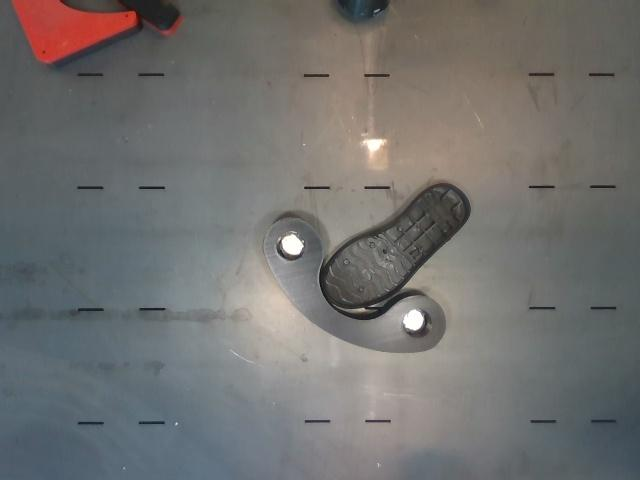shoes: (321, 183, 471, 308)
